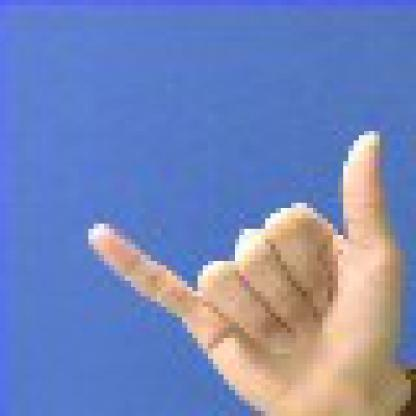six: (73, 109, 411, 411)
